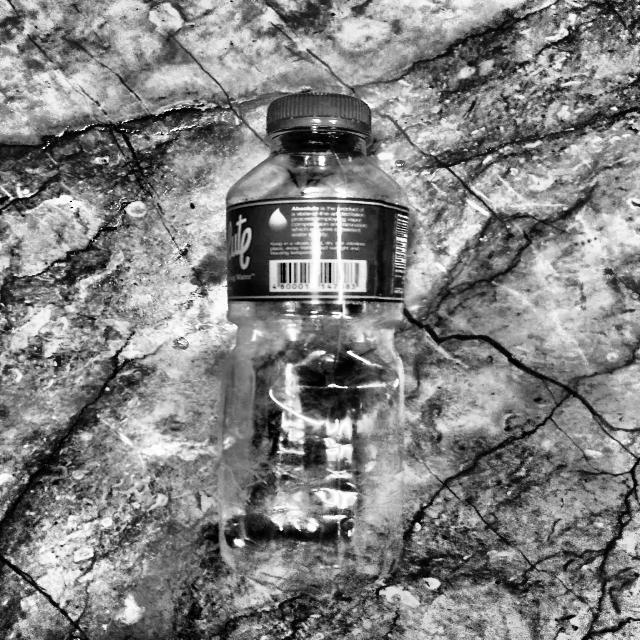Plastic-Bottle: (221, 88, 413, 546)
